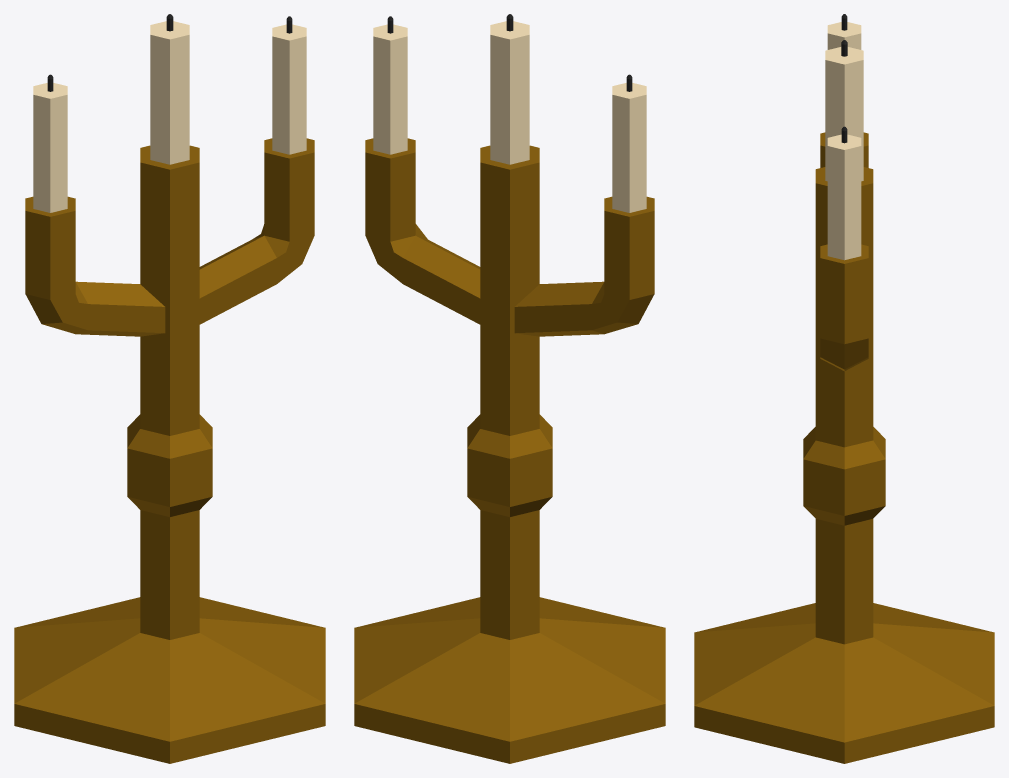
Rendered from Candelabra.fbx.
3 views of the same model, side by side, from view 1: azimuth 30°, elevation 25°; view 2: azimuth 150°, elevation 25°; view 3: azimuth 270°, elevation 25° (orthographic). The views are drawn at different scales.
Parts seen in each view (by area): view 1: Cylinder.012; view 2: Cylinder.012; view 3: Cylinder.012.
Boxes of the visible parts, bbox=[...] form: Cylinder.012: bbox=[14, 14, 325, 763]; Cylinder.012: bbox=[354, 14, 665, 763]; Cylinder.012: bbox=[694, 14, 994, 763].
Size of the model in its own units: 59.2 by 141 by 68.36.
